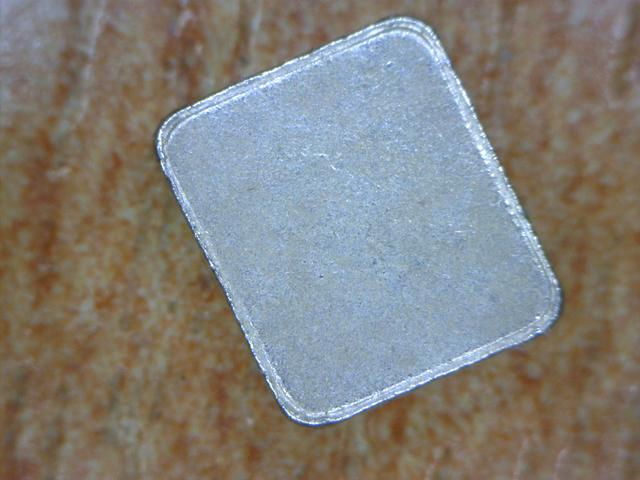nok: (145, 9, 573, 430)
